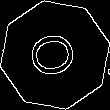O_E: (25, 29, 85, 81)
